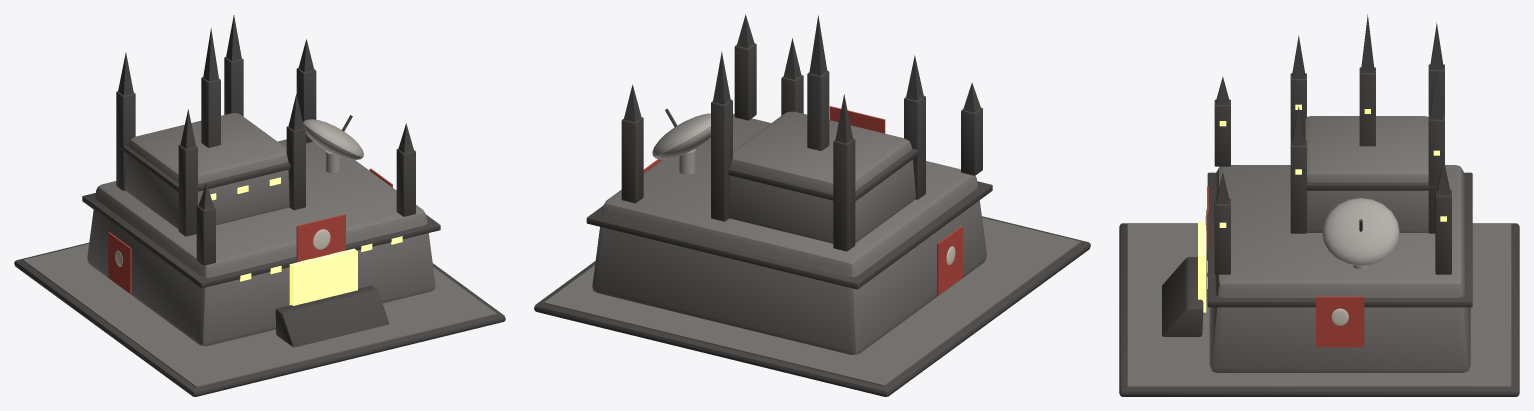
File: cy_hum.glb
The picture shows the model from 3 angles, left to right: view 1: azimuth 30°, elevation 25°; view 2: azimuth 150°, elevation 25°; view 3: azimuth 270°, elevation 25°; orthographic projection. The views are drawn at different scales.
Visible parts, largest first — view 1: cy_hum; view 2: cy_hum; view 3: cy_hum.
Part boxes in pixels (bbox=[...]): cy_hum: bbox=[14, 15, 505, 396]; cy_hum: bbox=[534, 14, 1090, 396]; cy_hum: bbox=[1119, 14, 1519, 396].
Bounding box in the file's own units: 2.9 × 2.28 × 2.9.
